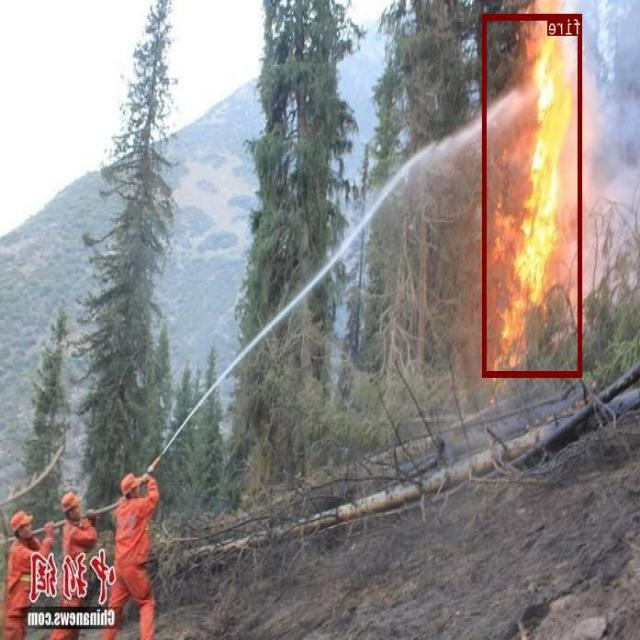fire: (483, 13, 582, 375)
